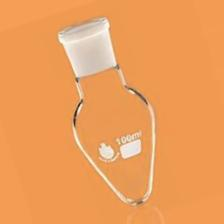Pear shaped flask: (45, 12, 165, 210)
